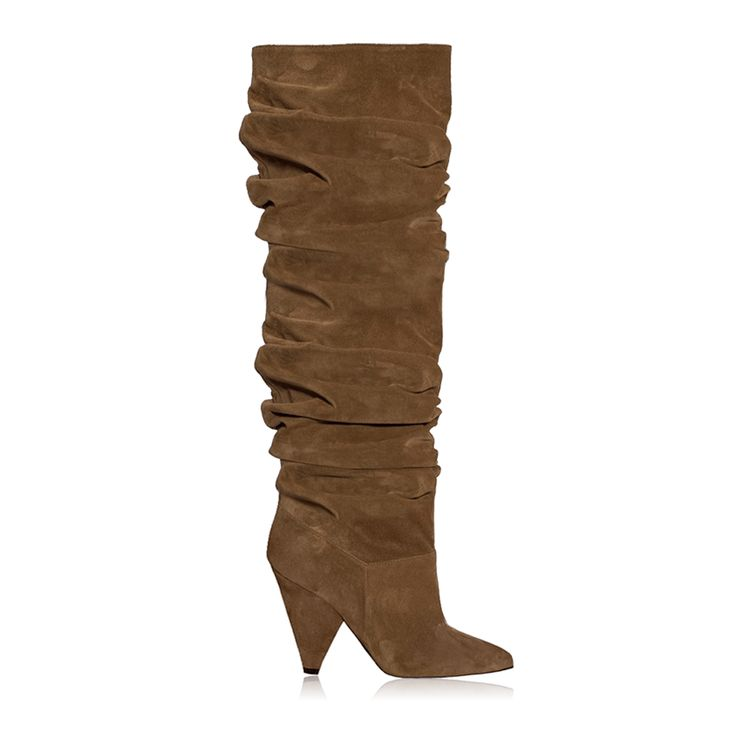gamuza: (237, 43, 514, 678)
